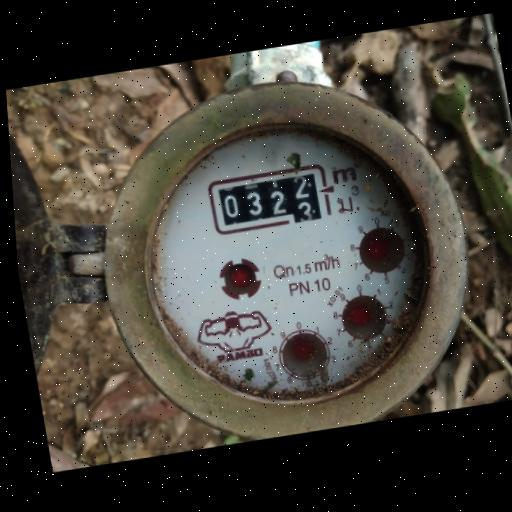0: (218, 185, 248, 225)
2: (286, 173, 321, 223), (262, 177, 295, 219)
3: (240, 182, 270, 222)
border_water_meter_number: (205, 163, 335, 239)
